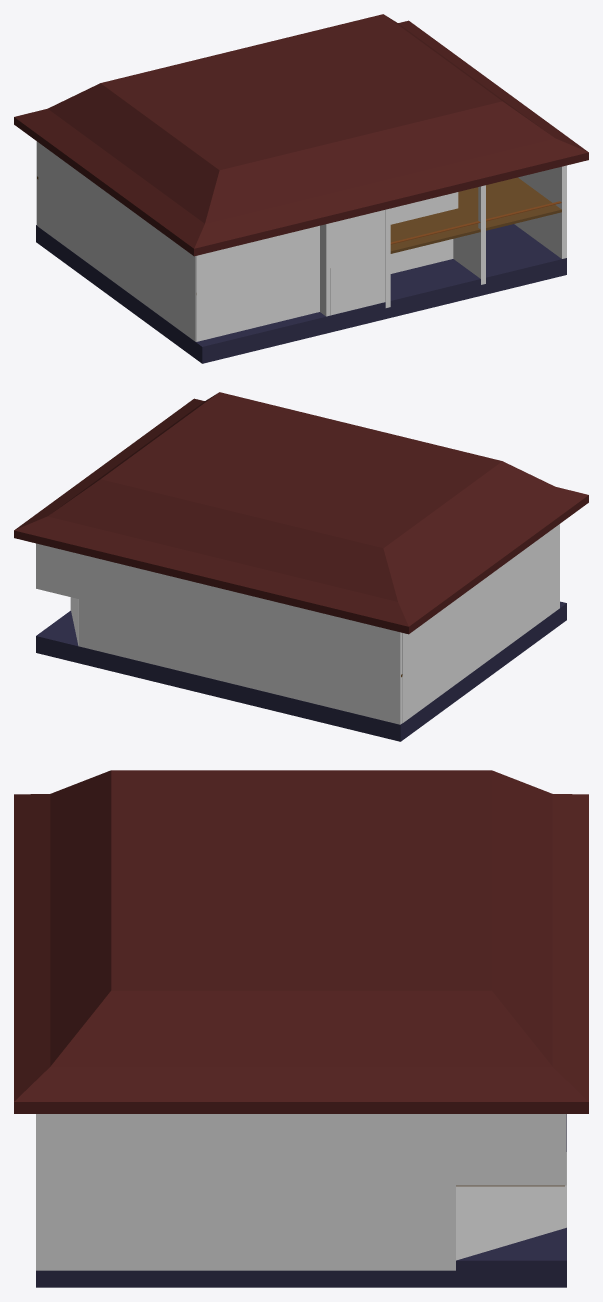
Rendered from horrorhouse_v2.fbx.
The picture shows the model from 3 angles, top to bottom: view 1: azimuth 30°, elevation 25°; view 2: azimuth 150°, elevation 25°; view 3: azimuth 270°, elevation 25°; orthographic projection. The views are drawn at different scales.
Parts seen in each view (by area): view 1: Roof, Ground_floor, firstfloor.024, secondfloor.002, firstfloor.003, firstfloor.022, Second Floor ground, secondfloor.005, firstfloor.001, secondfloor.006, firstfloor.004, firstfloor.023 (+6 smaller); view 2: Roof, secondfloor.004, firstfloor.005, Ground_floor, firstfloor.024, secondfloor.002, firstfloor.022; view 3: Roof, secondfloor.003, firstfloor.004, Ground_floor, firstfloor.006.
Boxes of the visible parts, left/top/right/bottom form: Roof: left=14, top=14, right=588, bottom=256; Ground_floor: left=36, top=224, right=566, bottom=363; firstfloor.024: left=38, top=180, right=195, bottom=341; secondfloor.002: left=38, top=142, right=195, bottom=294; firstfloor.003: left=196, top=264, right=319, bottom=341; firstfloor.022: left=39, top=182, right=195, bottom=340; Second Floor ground: left=37, top=176, right=561, bottom=294; secondfloor.005: left=196, top=225, right=319, bottom=294; firstfloor.001: left=330, top=255, right=385, bottom=315; secondfloor.006: left=331, top=210, right=385, bottom=267; firstfloor.004: left=514, top=211, right=566, bottom=258; firstfloor.023: left=390, top=239, right=453, bottom=273; Roof: left=14, top=392, right=588, bottom=634; secondfloor.004: left=36, top=543, right=402, bottom=677; firstfloor.005: left=78, top=599, right=402, bottom=724; Ground_floor: left=36, top=601, right=566, bottom=741; firstfloor.024: left=402, top=561, right=559, bottom=723; secondfloor.002: left=402, top=524, right=559, bottom=675; firstfloor.022: left=404, top=562, right=559, bottom=721; Roof: left=14, top=770, right=588, bottom=1113; secondfloor.003: left=36, top=1114, right=566, bottom=1185; firstfloor.004: left=36, top=1185, right=455, bottom=1270; Ground_floor: left=36, top=1114, right=566, bottom=1287; firstfloor.006: left=456, top=1152, right=566, bottom=1260.
Bounding box in the file's own units: 3260 × 1312 × 2576.
